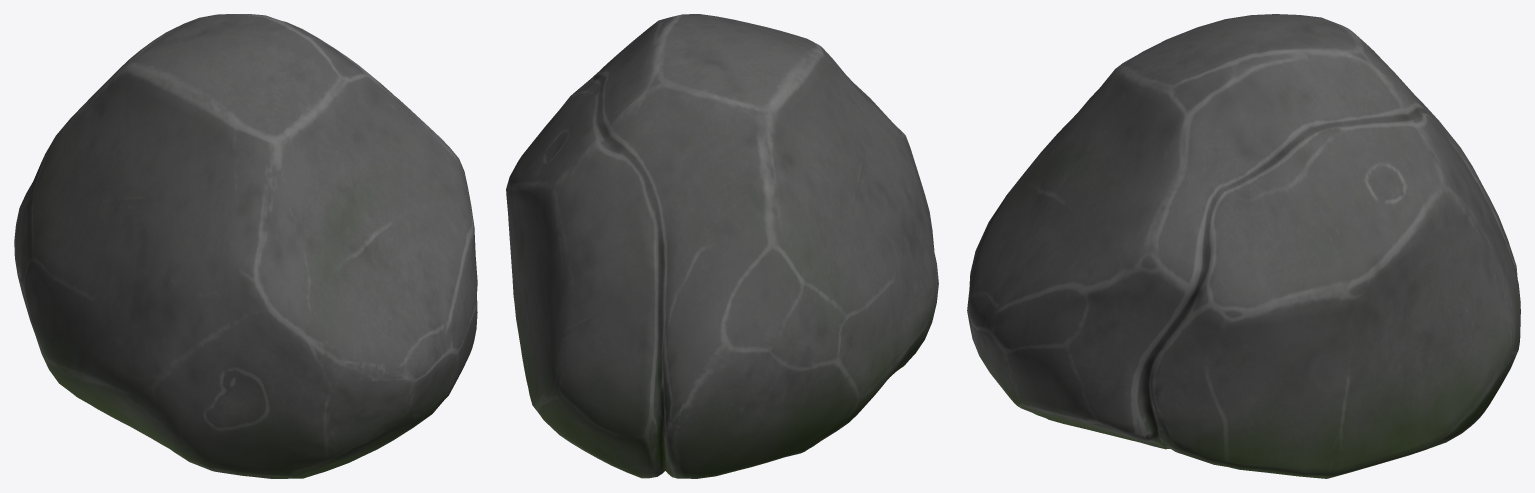
The model's file is rock.fbx.
3 views of the same model, side by side, from view 1: azimuth 30°, elevation 25°; view 2: azimuth 150°, elevation 25°; view 3: azimuth 270°, elevation 25° (orthographic). The views are drawn at different scales.
Visible parts, largest first — view 1: stone; view 2: stone; view 3: stone.
Boxes of the visible parts, x1,y1,x2,y2 form: stone: (14, 14, 477, 478); stone: (506, 14, 938, 478); stone: (967, 14, 1520, 478).
Size of the model in its own units: 193 by 185 by 236.
